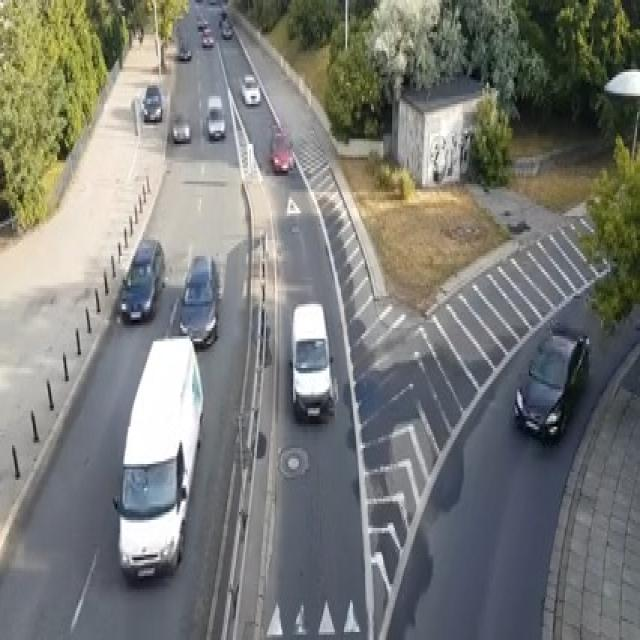bus: (111, 334, 203, 582)
car: (512, 320, 589, 443), (288, 302, 334, 422), (177, 253, 221, 347), (119, 235, 165, 322), (269, 128, 294, 173), (204, 93, 226, 139), (141, 82, 162, 122), (239, 72, 260, 104), (171, 112, 191, 144), (195, 13, 209, 30), (221, 19, 233, 37), (202, 32, 214, 48), (179, 45, 191, 59), (207, 0, 218, 3), (194, 0, 203, 3)
